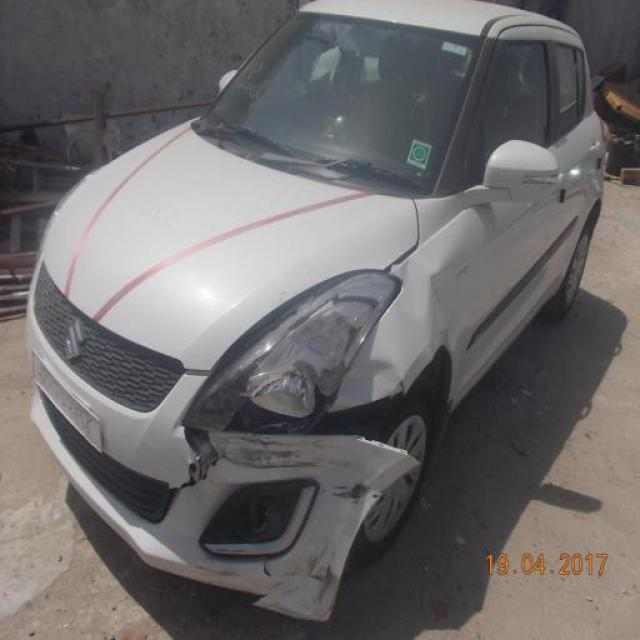crush: (170, 393, 423, 630)
shatter: (232, 340, 338, 428)
